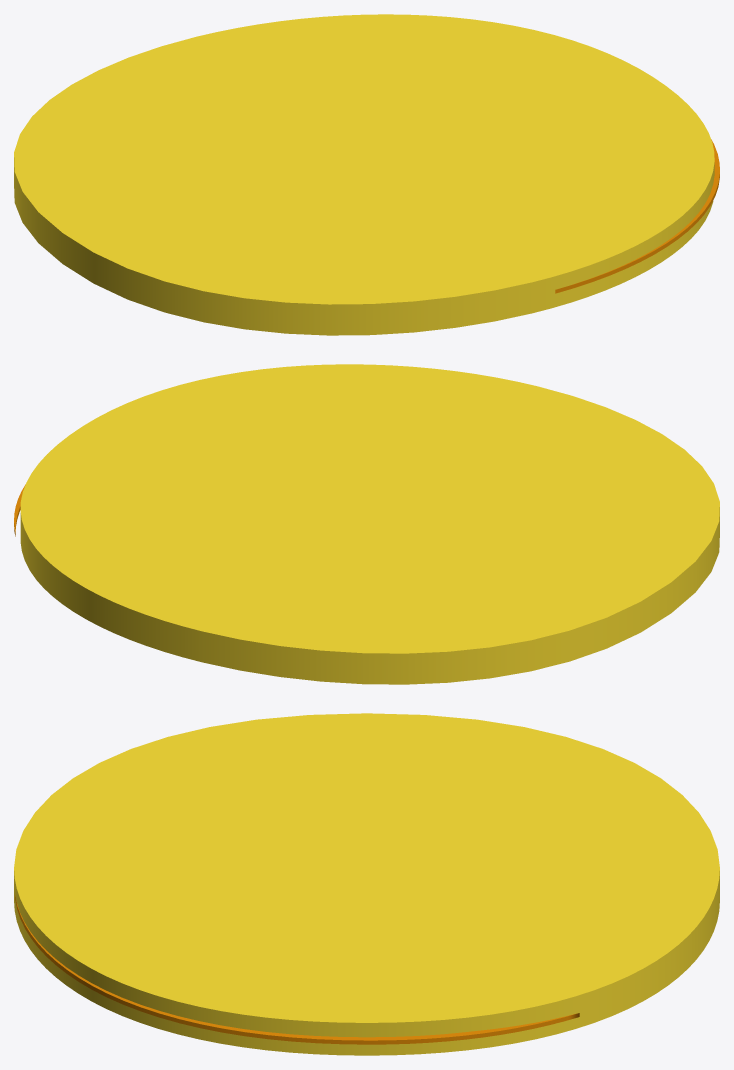
The model's file is emoji_u1fae9.glb.
3 views of the same model, one above another, from view 1: azimuth 30°, elevation 25°; view 2: azimuth 150°, elevation 25°; view 3: azimuth 270°, elevation 25° (orthographic). The views are drawn at different scales.
Parts seen in each view (by area): view 1: emoji_u1fae9; view 2: emoji_u1fae9; view 3: emoji_u1fae9.
Part boxes in pixels (x1,y1,x2,y2): emoji_u1fae9: (14,14,719,335); emoji_u1fae9: (14,364,719,684); emoji_u1fae9: (14,713,719,1055).
Bounding box in the file's own units: 0.0329 × 0.0016 × 0.0313.
